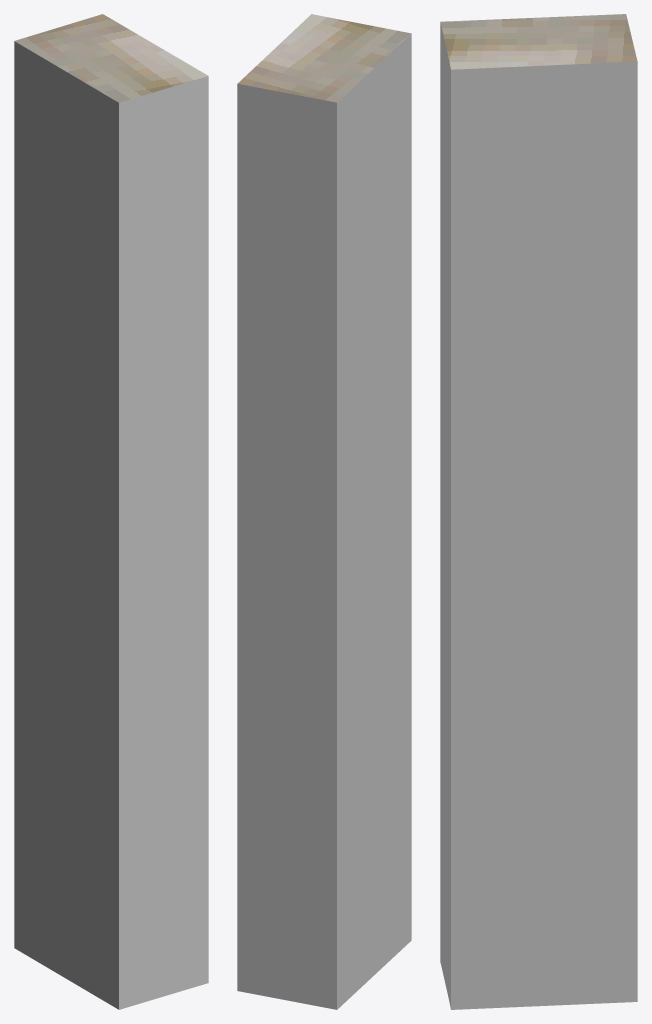
Rendered from DEBW_0010007THWU.gltf.
3 views of the same model, side by side, from view 1: azimuth 30°, elevation 25°; view 2: azimuth 150°, elevation 25°; view 3: azimuth 270°, elevation 25° (orthographic). The views are drawn at different scales.
Parts seen in each view (by area): view 1: Z_UP; view 2: Z_UP; view 3: Z_UP.
Boxes of the visible parts, left/top/right/bottom form: Z_UP: left=14, top=14, right=208, bottom=1009; Z_UP: left=237, top=14, right=411, bottom=1009; Z_UP: left=440, top=14, right=637, bottom=1009.
Bounding box in the file's own units: 1.73 × 13.62 × 2.59.
Materials: 2 (1 with a texture image).
